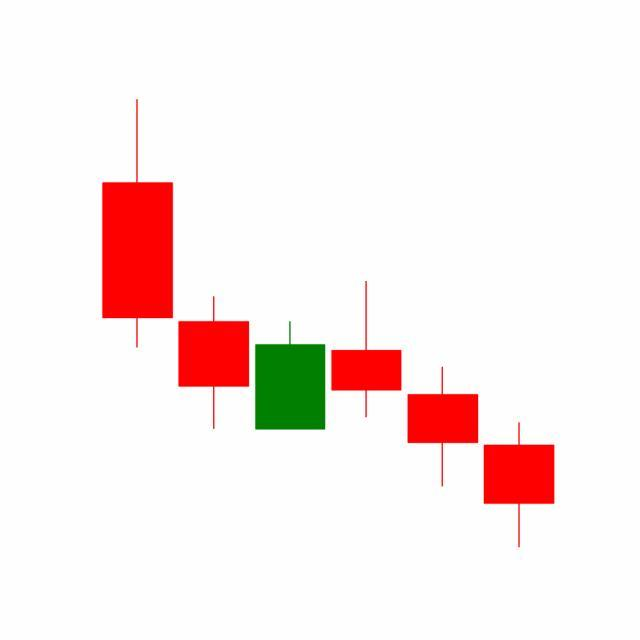Three Inside Up-Down: (252, 279, 482, 489)
